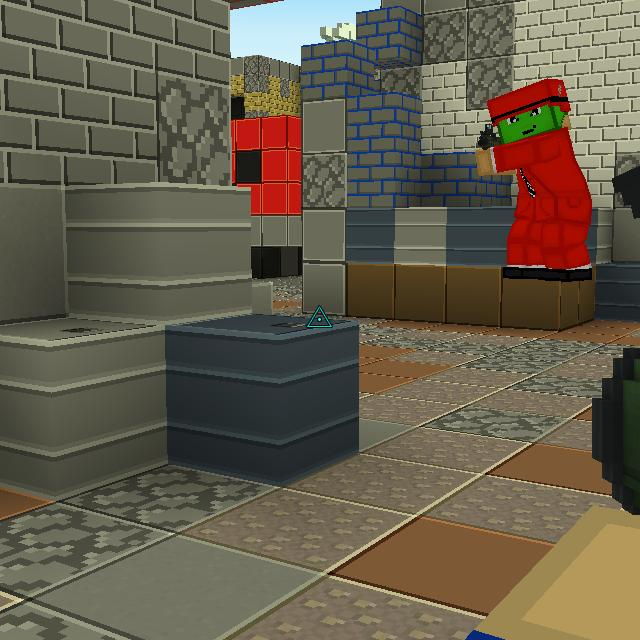enemy: (470, 68, 595, 287)
